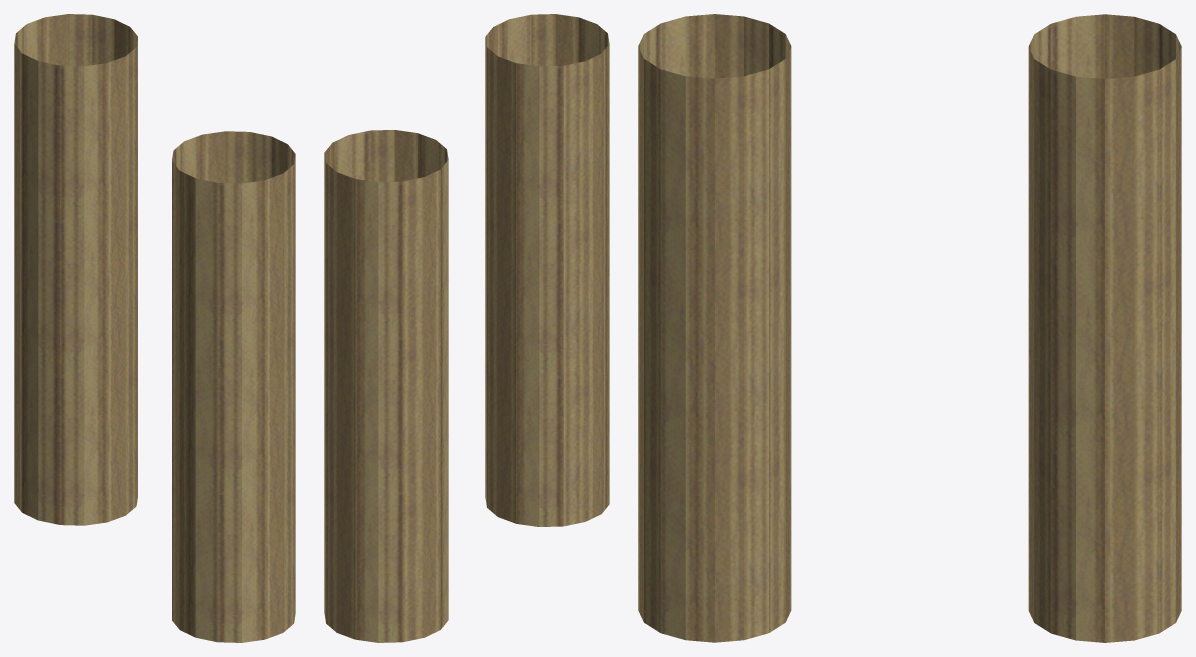
Rendered from SunBeachRopeExtension.obj.
3 views of the same model, side by side, from view 1: azimuth 30°, elevation 25°; view 2: azimuth 150°, elevation 25°; view 3: azimuth 270°, elevation 25° (orthographic). The views are drawn at different scales.
Parts seen in each view (by area): view 1: FloatyBeachTheSecond.001_Plane.002; view 2: FloatyBeachTheSecond.001_Plane.002; view 3: FloatyBeachTheSecond.001_Plane.002.
Boxes of the visible parts, x1,y1,x2,y2 form: FloatyBeachTheSecond.001_Plane.002: (14,14,295,642); FloatyBeachTheSecond.001_Plane.002: (324,14,609,642); FloatyBeachTheSecond.001_Plane.002: (638,14,1181,642).
Size of the model in its own units: 84.03 by 337 by 294.
